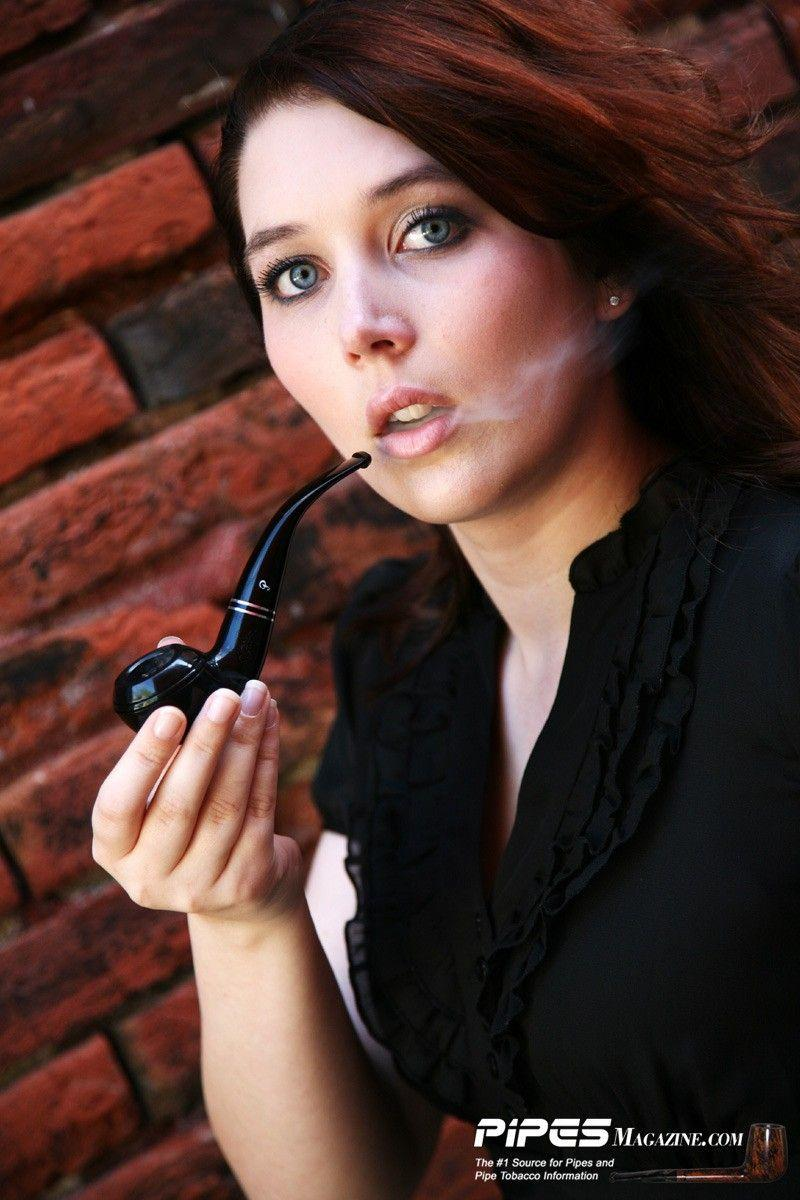trubka: (115, 454, 369, 747)
